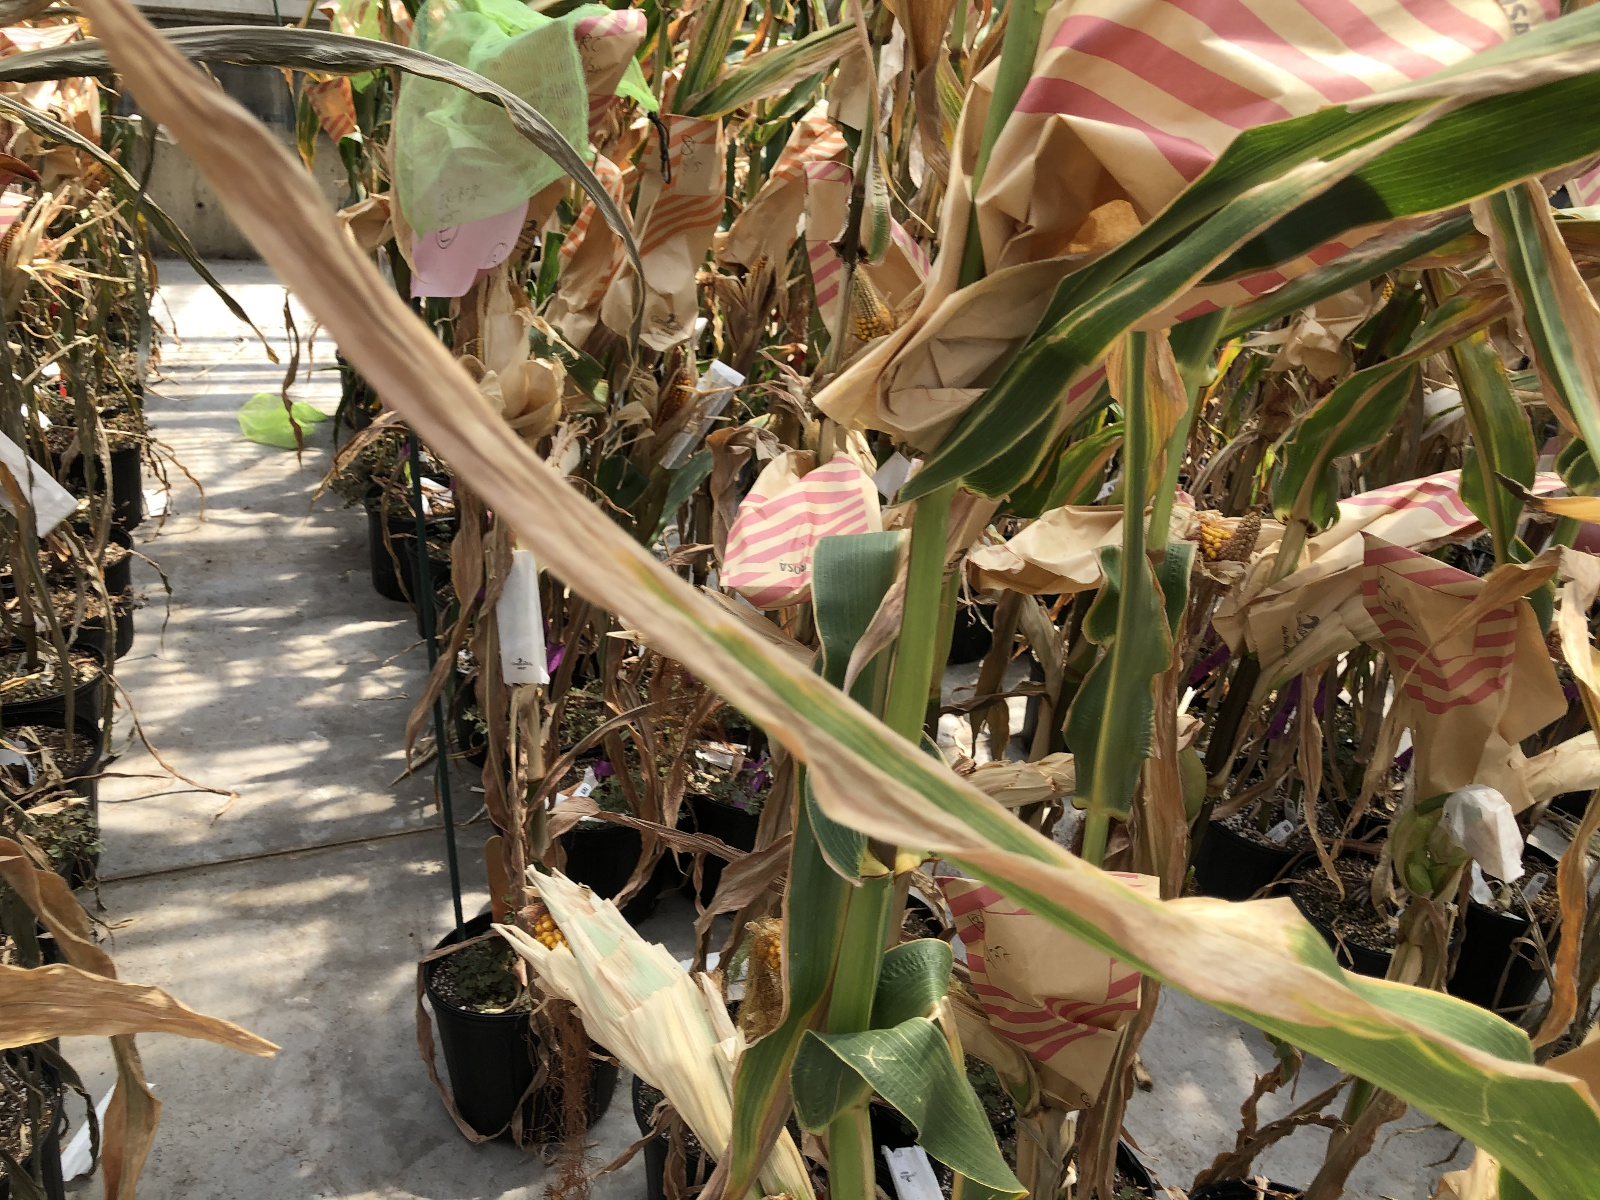ear: (517, 856, 740, 1138), (746, 899, 797, 1030), (1193, 500, 1267, 566), (847, 260, 903, 342), (60, 145, 125, 208), (653, 340, 695, 429), (1, 209, 31, 292)
